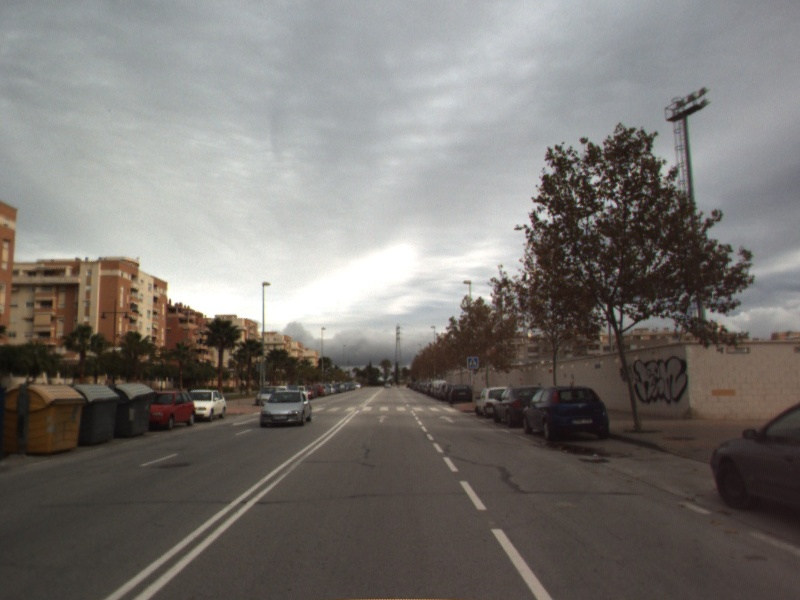STRAIGHT: (374, 413, 392, 425), (438, 413, 457, 424)
